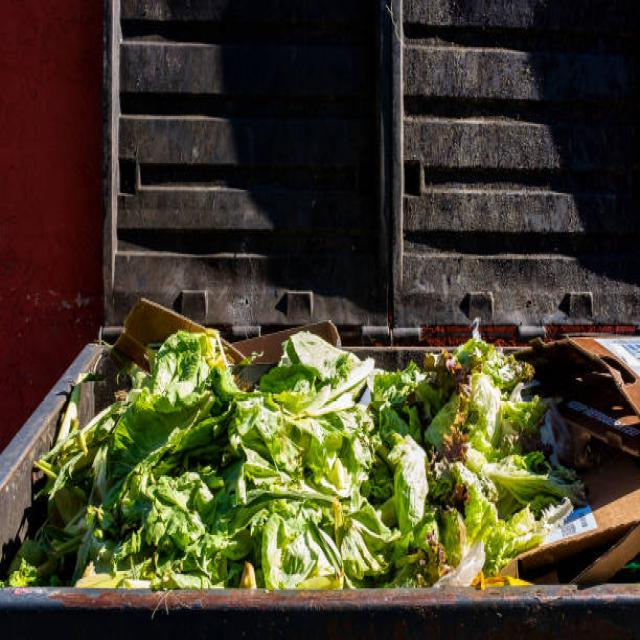cardboard: (525, 334, 635, 573)
